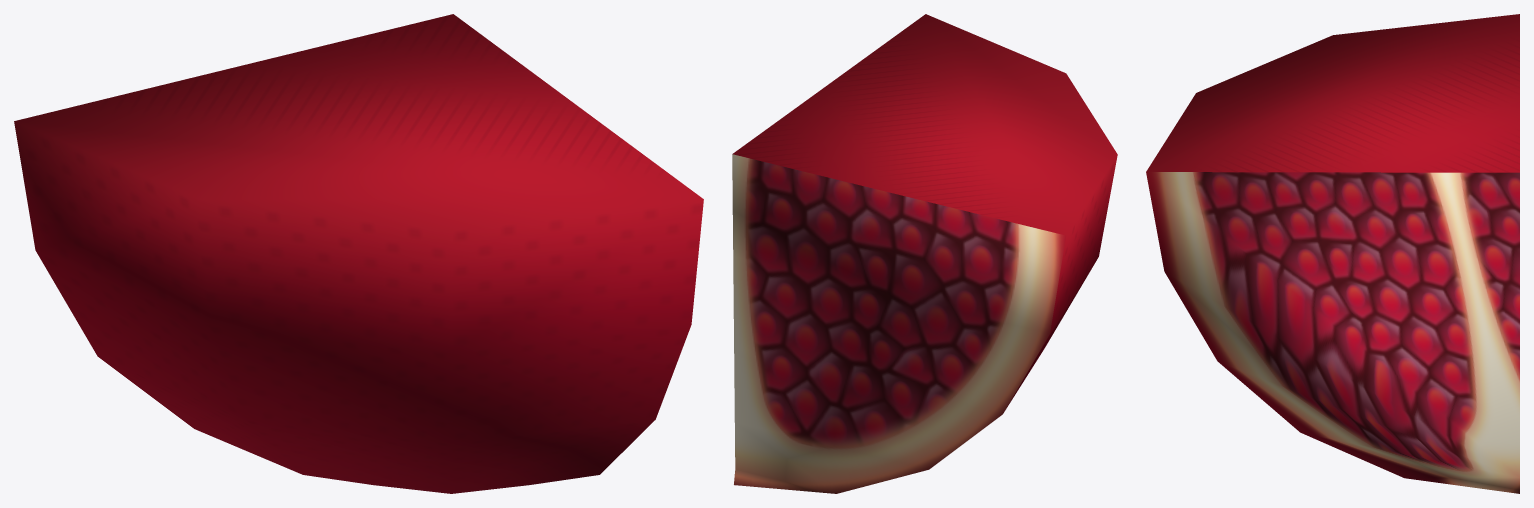
File: Pome_Bottom4.fbx
3 renders of one model, left to right at view 1: azimuth 30°, elevation 25°; view 2: azimuth 150°, elevation 25°; view 3: azimuth 270°, elevation 25°, orthographic. The views are drawn at different scales.
Parts seen in each view (by area): view 1: Pomegranate_Bottom4; view 2: Pomegranate_Bottom4; view 3: Pomegranate_Bottom4.
Part boxes in pixels (bbox=[...]): Pomegranate_Bottom4: bbox=[14, 14, 703, 493]; Pomegranate_Bottom4: bbox=[732, 14, 1117, 493]; Pomegranate_Bottom4: bbox=[1146, 14, 1519, 493].
Bounding box in the file's own units: 0.7535 × 0.7125 × 0.75.
